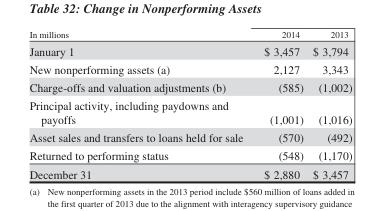table: (28, 28, 351, 180)
table column: (28, 28, 252, 180), (252, 28, 307, 180), (307, 28, 351, 180)
table column header: (28, 28, 351, 41)
table row: (28, 96, 351, 128), (28, 77, 351, 96), (28, 41, 351, 59), (28, 59, 351, 77), (28, 128, 351, 146), (28, 146, 351, 164), (28, 164, 351, 180), (28, 28, 351, 41)
